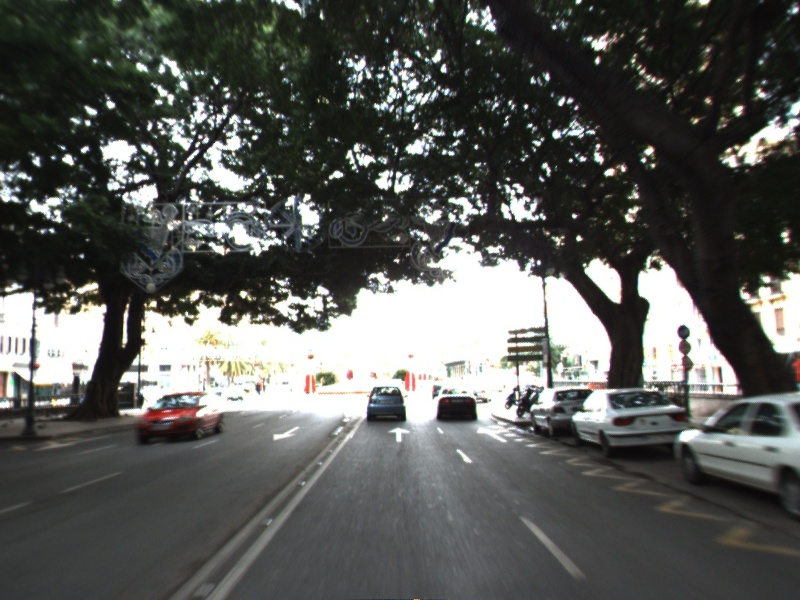STRAIGHT: (474, 424, 509, 444), (386, 425, 412, 444)
